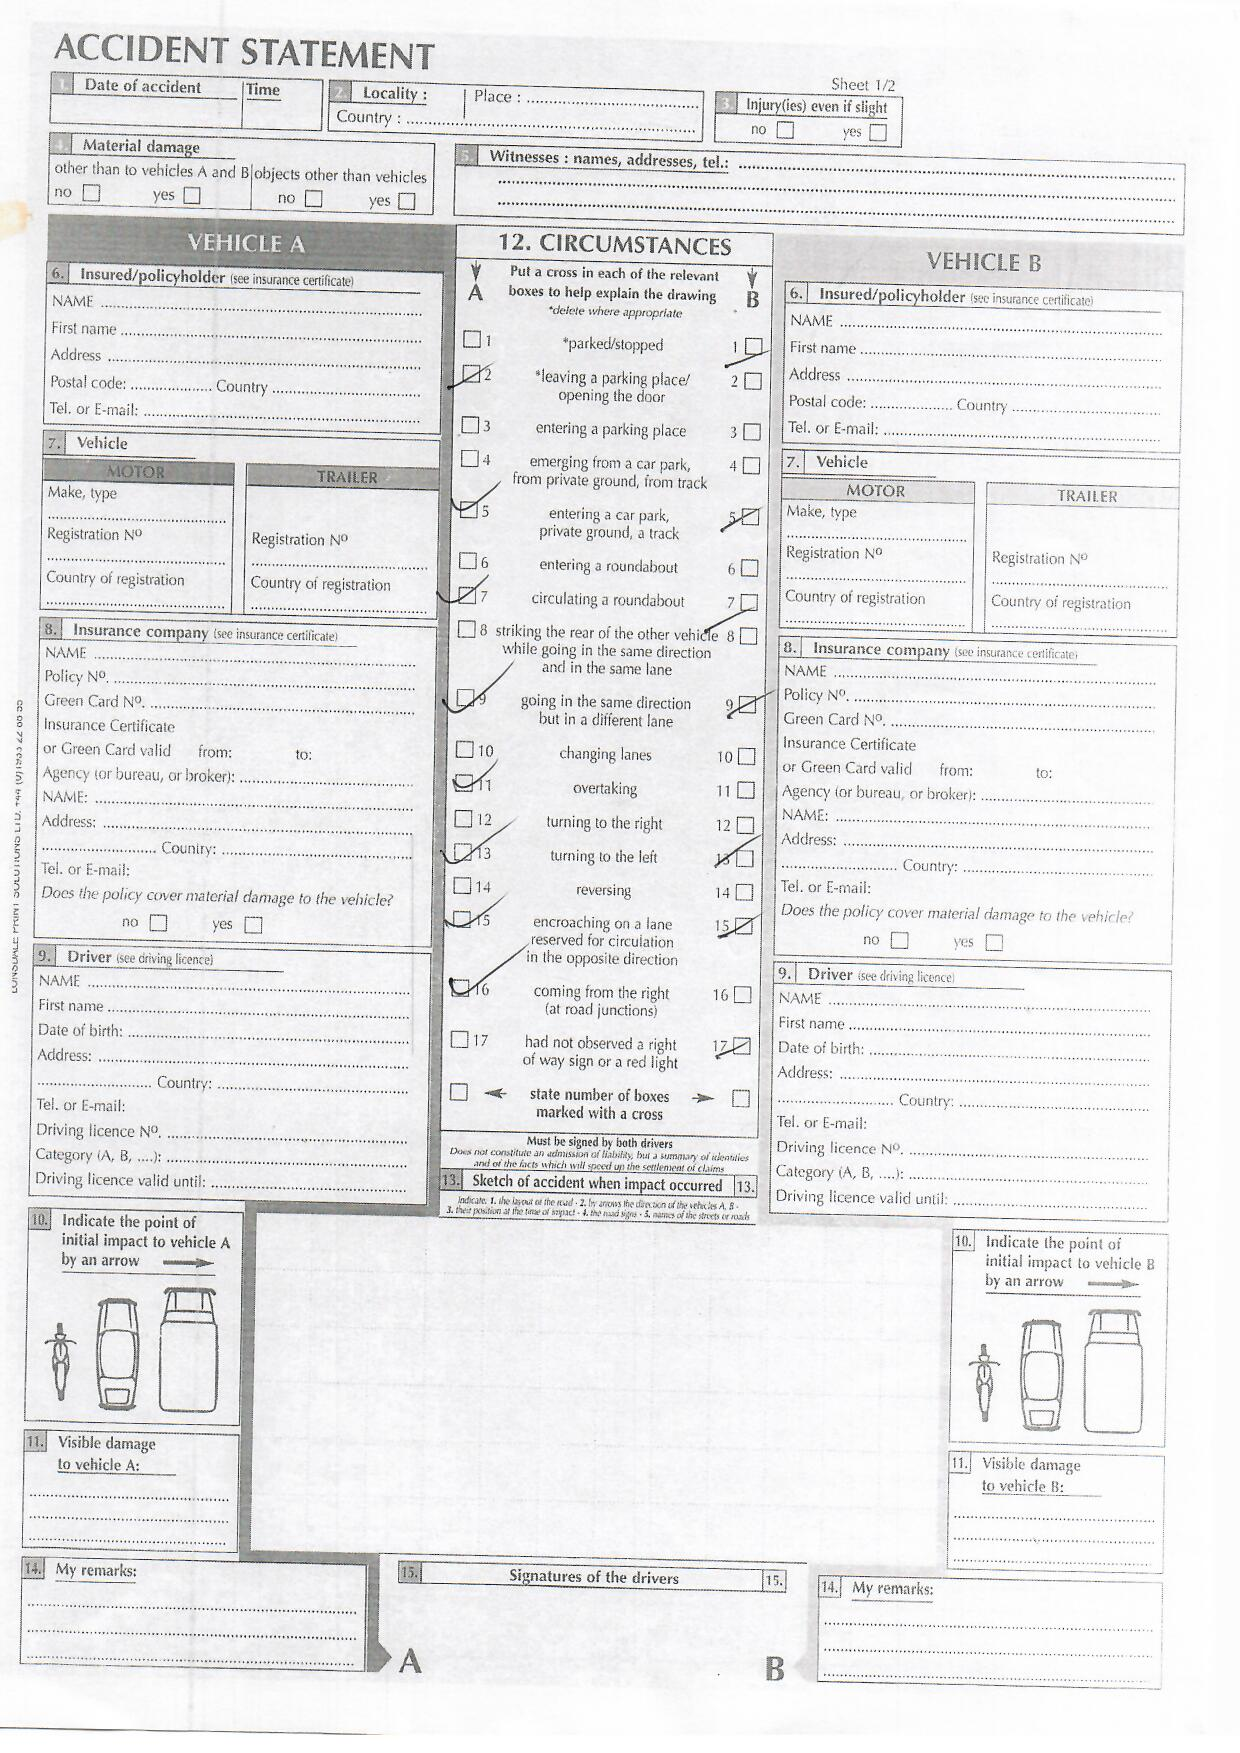a: (446, 974, 475, 1000), (450, 839, 476, 864), (731, 846, 756, 872), (731, 913, 756, 940), (742, 333, 766, 358), (450, 907, 475, 932), (454, 685, 476, 711), (450, 772, 475, 795), (458, 498, 480, 522), (739, 503, 761, 529), (735, 592, 761, 613), (455, 583, 478, 605), (735, 694, 760, 715), (730, 1032, 752, 1056), (460, 361, 482, 384)
